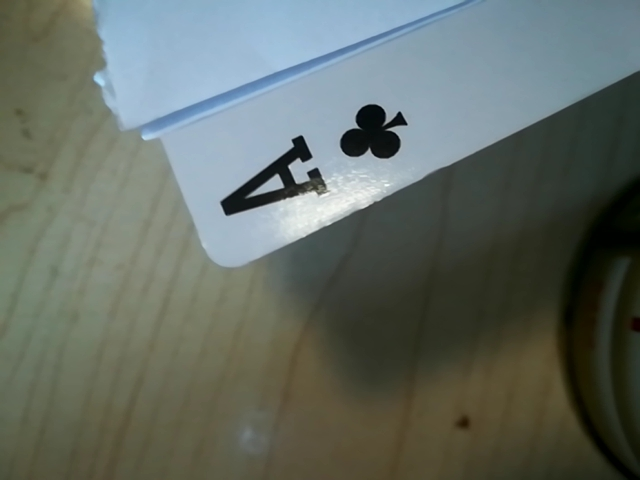mh a: (207, 90, 428, 241)
